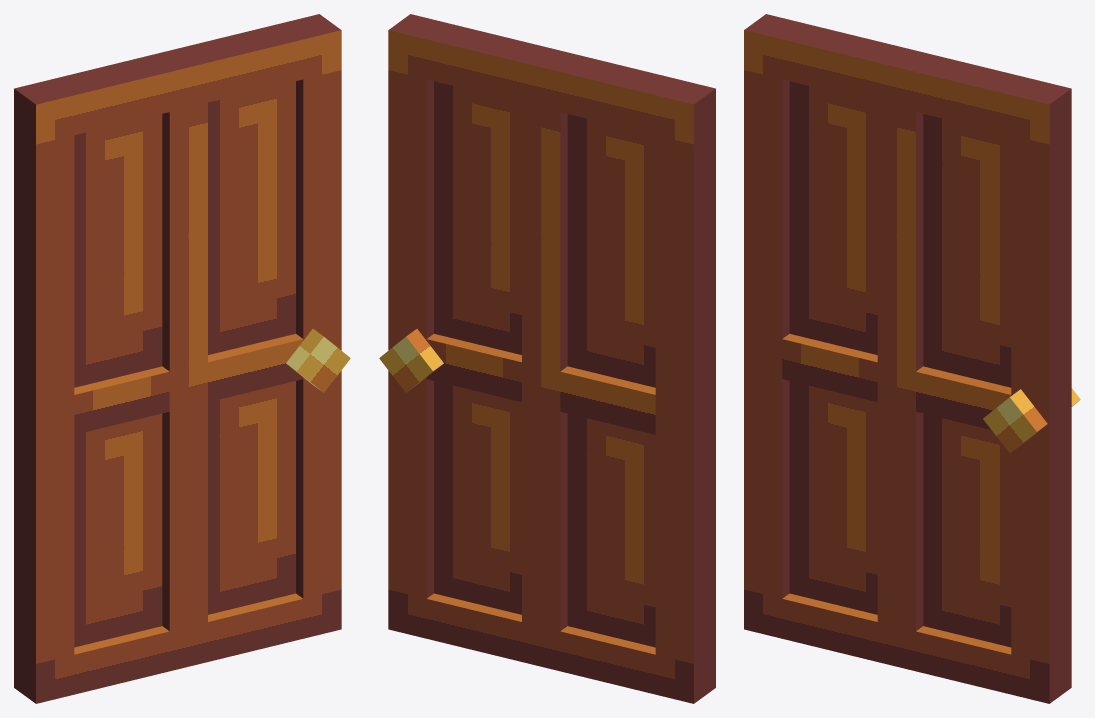
The model's file is door.fbx.
3 renders of one model, left to right at view 1: azimuth 30°, elevation 25°; view 2: azimuth 150°, elevation 25°; view 3: azimuth 330°, elevation 25°, orthographic.
Parts seen in each view (by area): view 1: cuboid, cuboid_1; view 2: cuboid, cuboid_1; view 3: cuboid, cuboid_1.
Boxes of the visible parts, left/top/right/bottom form: cuboid: left=14, top=14, right=341, bottom=703; cuboid_1: left=286, top=329, right=350, bottom=392; cuboid: left=388, top=14, right=715, bottom=703; cuboid_1: left=379, top=329, right=443, bottom=392; cuboid: left=744, top=14, right=1071, bottom=703; cuboid_1: left=983, top=388, right=1080, bottom=453.
Bounding box in the file's own units: 100 × 188 × 25.
Materials: 1 (1 with a texture image).
